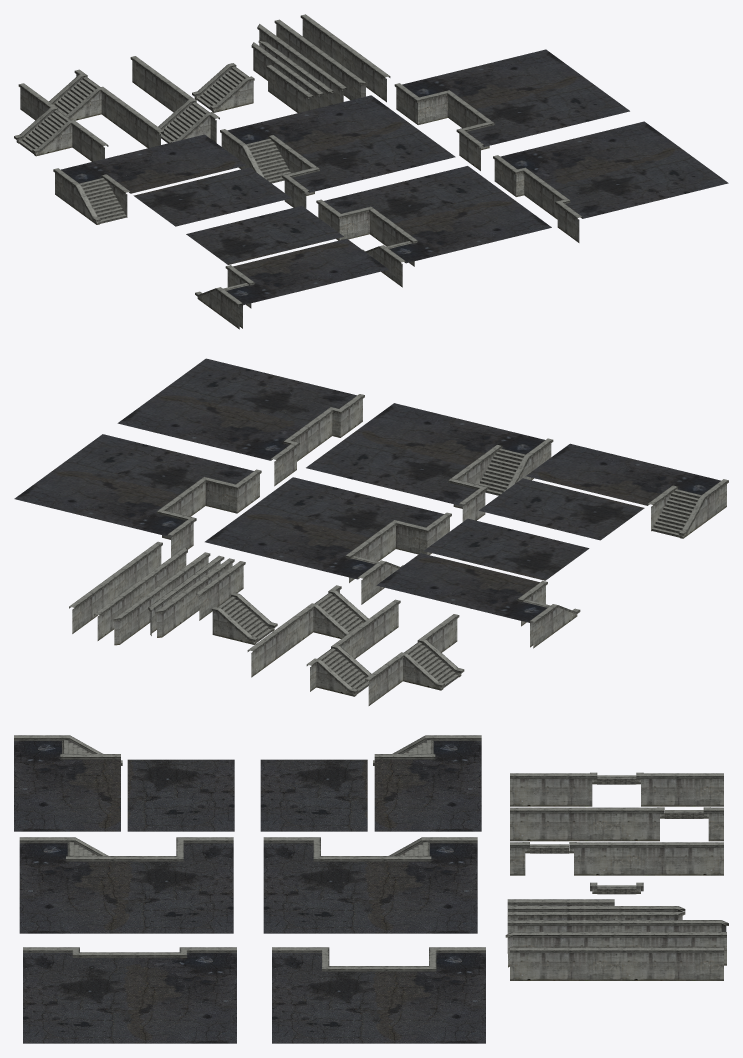
The model's file is UNIFloor_elevation_set_v1.FBX.
3 renders of one model, top to bottom at view 1: azimuth 30°, elevation 25°; view 2: azimuth 150°, elevation 25°; view 3: azimuth 270°, elevation 25°, orthographic. The views are drawn at different scales.
Parts seen in each view (by area): view 1: UNIConcrete_wall_v1_W_2f, UNIConcrete_wall_v1_S_L_2f, UNIConcrete_wall_v1_W_1f, UNIConcrete_wall_v1_S_R_2f, UNIConcrete_wall_v1_S_R_1f1, UNIConcrete_wall_v1_S_L_1f1, UNIConcrete_wall_v1_S_L_1f2, UNIConcrete_wall_v1_S_R_1f2, UNIConcrete_wall_v1_S_middle, UNIConcrete_wall_v1_S_left, UNIConcrete_wall_v1_S_L_2, UNIConcrete_wall_v1_S_right (+12 smaller); view 2: UNIConcrete_wall_v1_W_2f, UNIConcrete_wall_v1_S_R_2f, UNIConcrete_wall_v1_W_1f, UNIConcrete_wall_v1_S_L_2f, UNIConcrete_wall_v1_S_L_1f1, UNIConcrete_wall_v1_S_R_1f1, UNIConcrete_wall_v1_S_L_1f2, UNIConcrete_wall_v1_S_R_1f2, UNIConcrete_wall_v1_S_middle, UNIConcrete_wall_v1_S_left, UNIConcrete_wall_v1_S_right, UNIConcrete_wall_v1_S_R_2 (+12 smaller); view 3: UNIConcrete_wall_v1_W_2f, UNIConcrete_wall_v1_S_L_2f, UNIConcrete_wall_v1_S_R_2f, UNIConcrete_wall_v1_W_1f, UNIConcrete_wall_v1_S_L_1f1, UNIConcrete_wall_v1_S_R_1f1, UNIConcrete_wall_v1_S_L_1f2, UNIConcrete_wall_v1_S_R_1f2, UNIConcrete_wall_v1_W_tile_1, UNIConcrete_wall_v1_S_left, UNIConcrete_wall_v1_S_middle, UNIConcrete_wall_v1_S_right (+12 smaller).
Boxes of the visible parts, <box> form: UNIConcrete_wall_v1_W_2f: <box>500,121,728,218</box>; UNIConcrete_wall_v1_S_L_2f: <box>227,95,455,192</box>; UNIConcrete_wall_v1_W_1f: <box>402,49,629,146</box>; UNIConcrete_wall_v1_S_R_2f: <box>324,166,551,263</box>; UNIConcrete_wall_v1_S_R_1f1: <box>226,238,388,305</box>; UNIConcrete_wall_v1_S_L_1f1: <box>61,134,246,193</box>; UNIConcrete_wall_v1_S_L_1f2: <box>133,167,291,226</box>; UNIConcrete_wall_v1_S_R_1f2: <box>186,206,343,264</box>; UNIConcrete_wall_v1_S_middle: <box>14,83,108,161</box>; UNIConcrete_wall_v1_S_left: <box>49,69,163,148</box>; UNIConcrete_wall_v1_S_L_2: <box>220,129,319,208</box>; UNIConcrete_wall_v1_S_right: <box>130,56,219,143</box>; UNIConcrete_wall_v1_W_2f: <box>117,358,356,460</box>; UNIConcrete_wall_v1_S_R_2f: <box>306,403,545,505</box>; UNIConcrete_wall_v1_W_1f: <box>14,434,253,536</box>; UNIConcrete_wall_v1_S_L_2f: <box>205,477,443,579</box>; UNIConcrete_wall_v1_S_L_1f1: <box>376,553,546,622</box>; UNIConcrete_wall_v1_S_R_1f1: <box>526,443,720,505</box>; UNIConcrete_wall_v1_S_L_1f2: <box>424,518,589,580</box>; UNIConcrete_wall_v1_S_R_1f2: <box>479,478,644,540</box>; UNIConcrete_wall_v1_S_middle: <box>365,614,464,705</box>; UNIConcrete_wall_v1_S_left: <box>306,599,400,696</box>; UNIConcrete_wall_v1_S_right: <box>247,585,368,677</box>; UNIConcrete_wall_v1_S_R_2: <box>448,438,553,521</box>; UNIConcrete_wall_v1_W_2f: <box>23,953,236,1043</box>; UNIConcrete_wall_v1_S_L_2f: <box>263,843,477,933</box>; UNIConcrete_wall_v1_S_R_2f: <box>19,843,233,933</box>; UNIConcrete_wall_v1_W_1f: <box>272,953,485,1043</box>; UNIConcrete_wall_v1_S_L_1f1: <box>374,741,481,831</box>; UNIConcrete_wall_v1_S_R_1f1: <box>14,741,120,831</box>; UNIConcrete_wall_v1_S_L_1f2: <box>260,759,367,831</box>; UNIConcrete_wall_v1_S_R_1f2: <box>127,759,234,831</box>; UNIConcrete_wall_v1_W_tile_1: <box>510,947,723,980</box>; UNIConcrete_wall_v1_S_left: <box>510,807,723,841</box>; UNIConcrete_wall_v1_S_middle: <box>510,772,723,806</box>; UNIConcrete_wall_v1_S_right: <box>510,842,723,875</box>.
Bounding box in the file's own units: 33.78 × 1.67 × 33.4.
